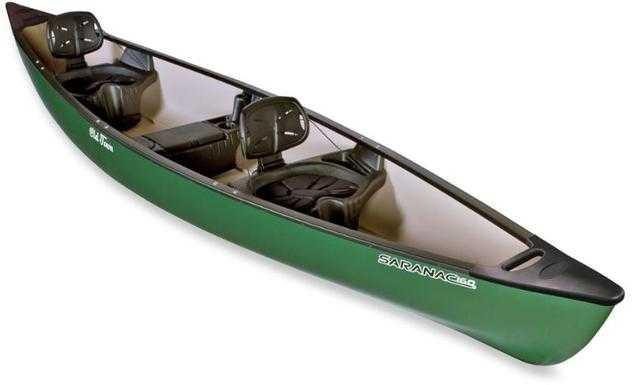kayak: (4, 10, 634, 370)
